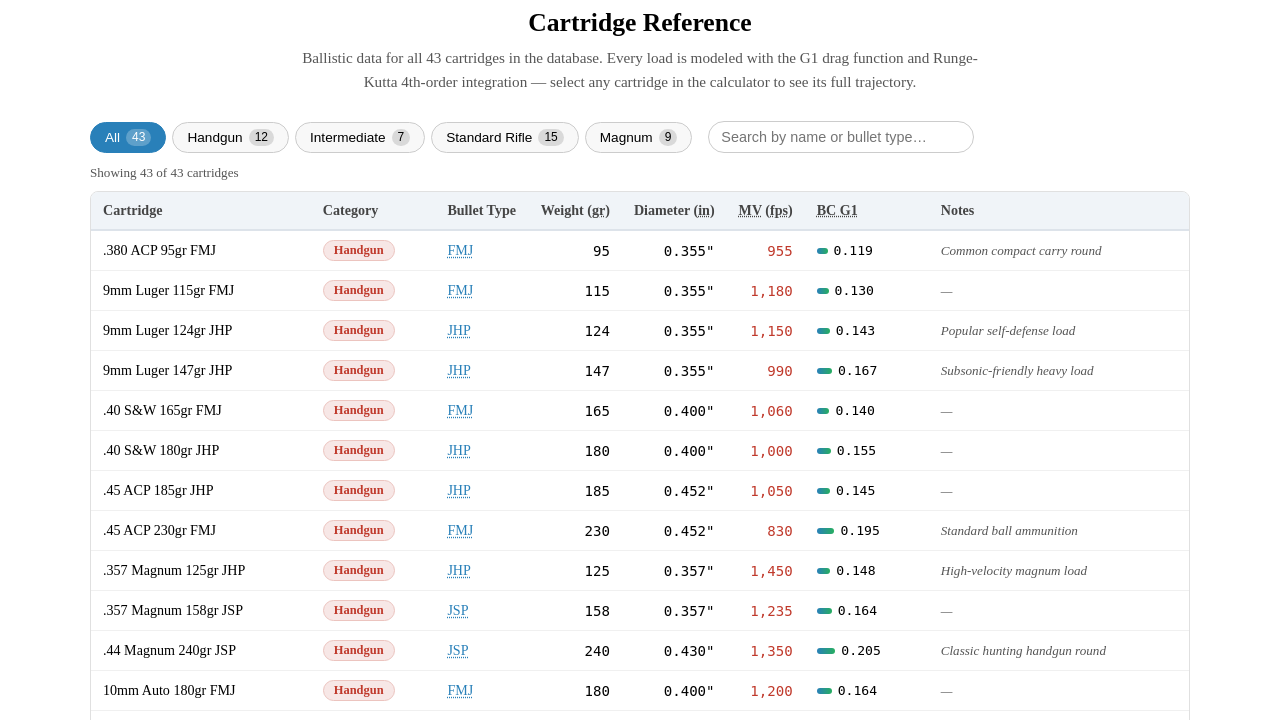
CartridgeReference › filters by Handgun category
Note: Click the Handgun tab (first one containing "Handgun" text)
Click the button "Handgun 12". click: (231, 137)
box: [172,122,289,152]
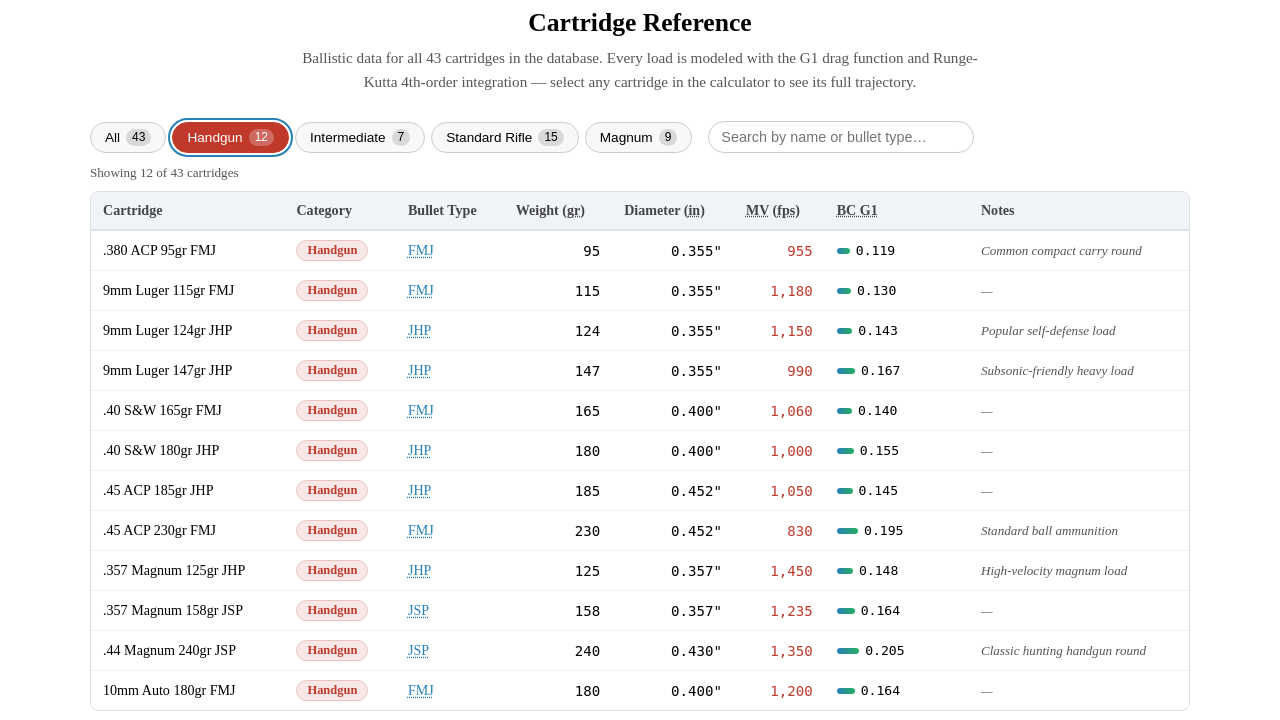
Expected: the text ".380 ACP 95gr FMJ" is shown, [91,231,284,271]
Now the text "Showing 12 of 43 cartridges" is shown, box [90,165,239,180]
